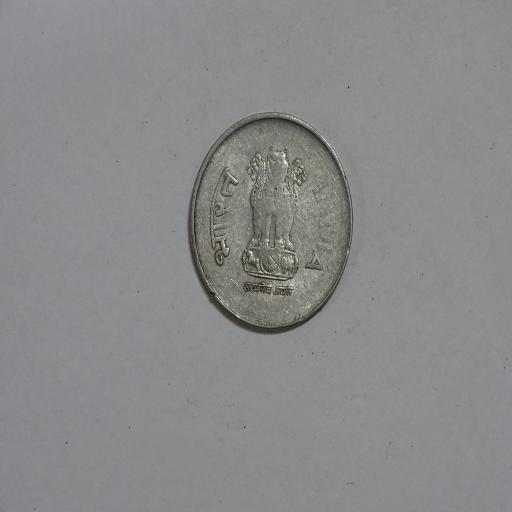rupee1: (187, 112, 350, 328)
